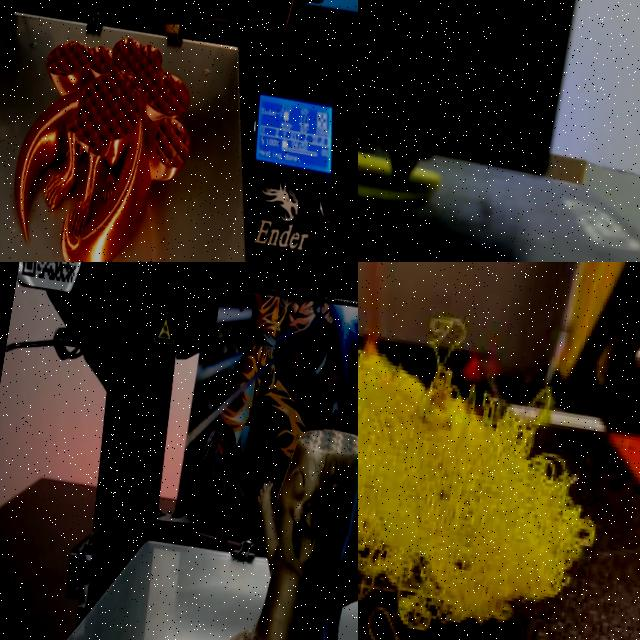spaghetti: (358, 336, 598, 640)
